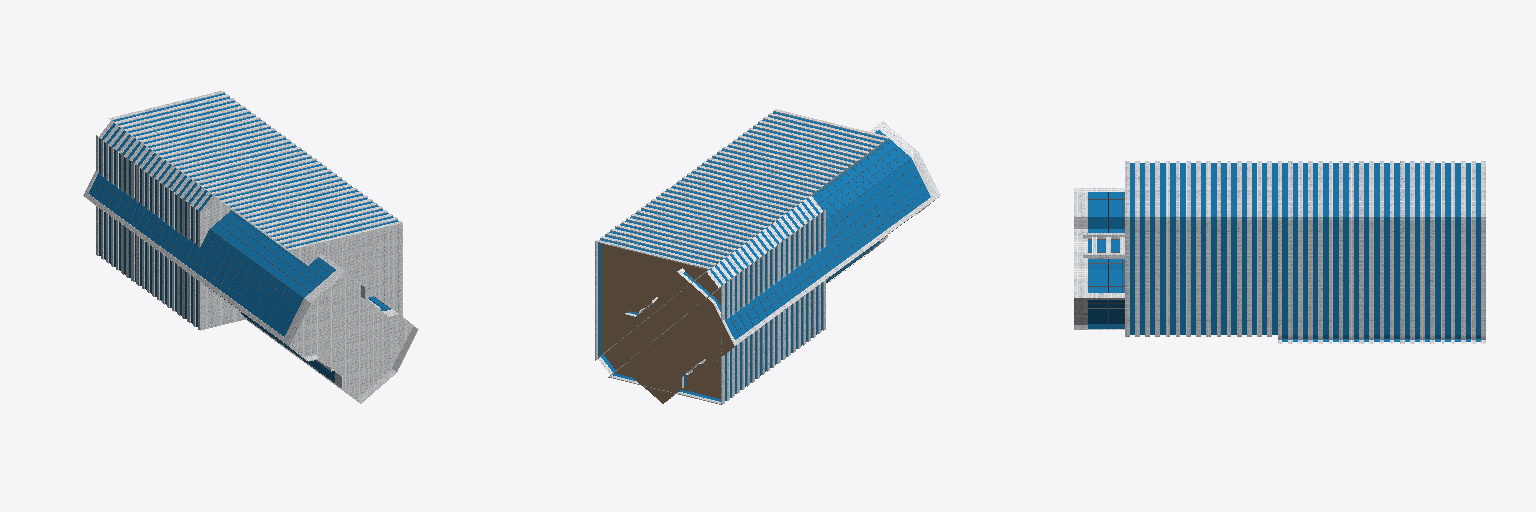
The picture shows the model from 3 angles: view 1: azimuth 30°, elevation 25°; view 2: azimuth 150°, elevation 25°; view 3: azimuth 270°, elevation 25°; orthographic projection.
Visible parts, largest first — view 1: Wall_04, Wall_01, Glass_01, Glass_02, Wall_02, Wall_03, Frame_01; view 2: Wall_01, Slab_01, Glass_01, Glass_02, Wall_04, Wall_02, Frame_01, Wall_03; view 3: Glass_01, Wall_01, Glass_02, Wall_03, Wall_02.
Part boxes in pixels (x1,y1,x2,y2): Wall_04: (88, 92, 418, 403); Wall_01: (85, 91, 402, 398); Glass_01: (99, 93, 398, 326); Glass_02: (88, 173, 390, 381); Wall_02: (83, 192, 379, 395); Wall_03: (285, 269, 416, 402); Frame_01: (91, 176, 390, 382); Wall_01: (596, 109, 933, 404); Slab_01: (601, 244, 734, 403); Glass_01: (598, 112, 885, 401); Glass_02: (628, 130, 930, 385); Wall_04: (595, 111, 926, 404); Wall_02: (639, 126, 935, 401); Frame_01: (629, 134, 927, 384); Wall_03: (868, 121, 940, 253); Glass_01: (1130, 163, 1480, 341); Wall_01: (1083, 161, 1485, 343); Glass_02: (1088, 192, 1124, 328); Wall_03: (1074, 188, 1082, 329); Wall_02: (1083, 188, 1124, 329).
Bounding box in the file's own units: 1901 × 1901 × 4855.
Materials: 4 (1 with a texture image).